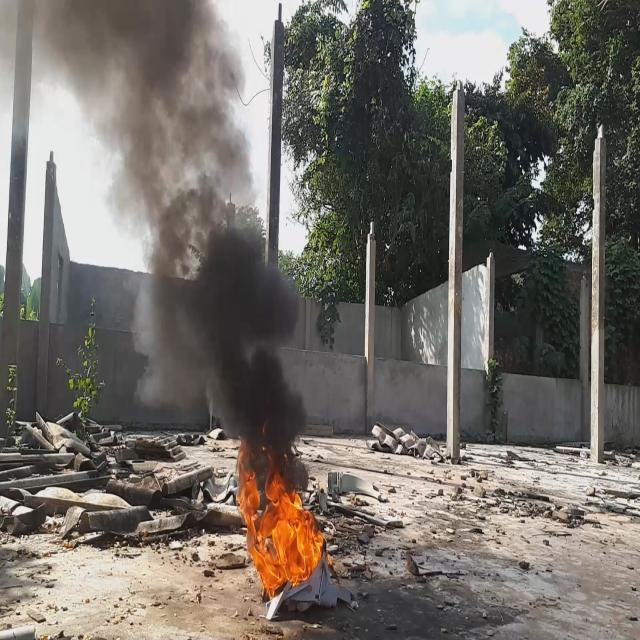Fire: (236, 428, 324, 606)
Smoke: (0, 0, 311, 476)
